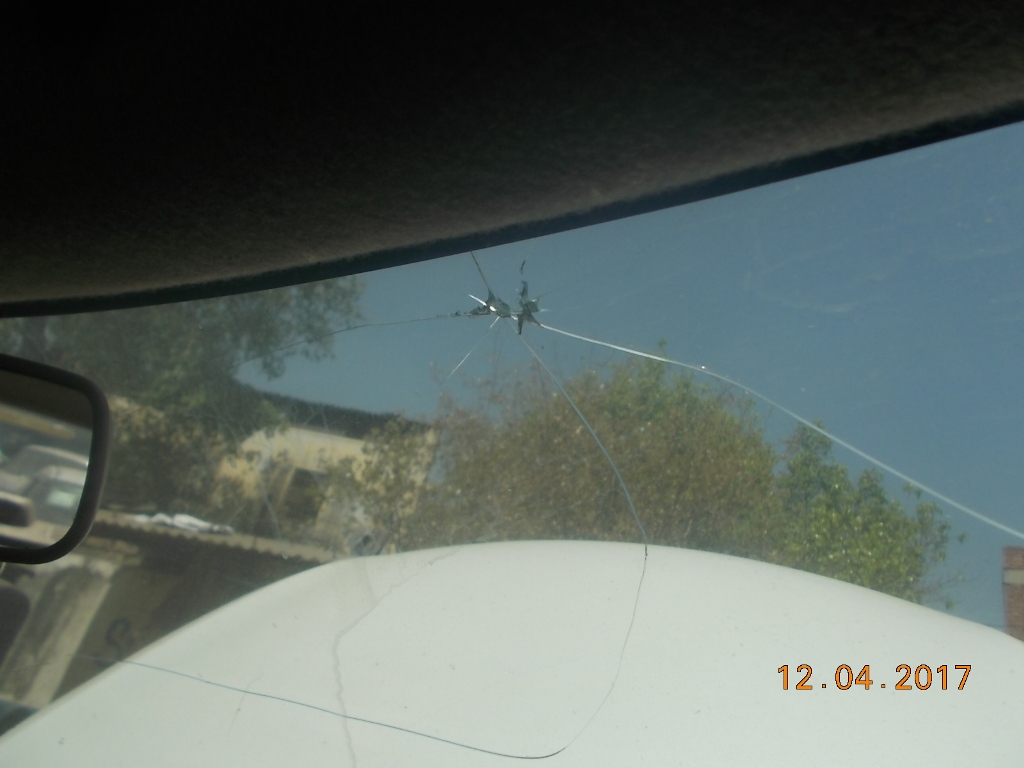Shatter: (462, 266, 569, 358)
